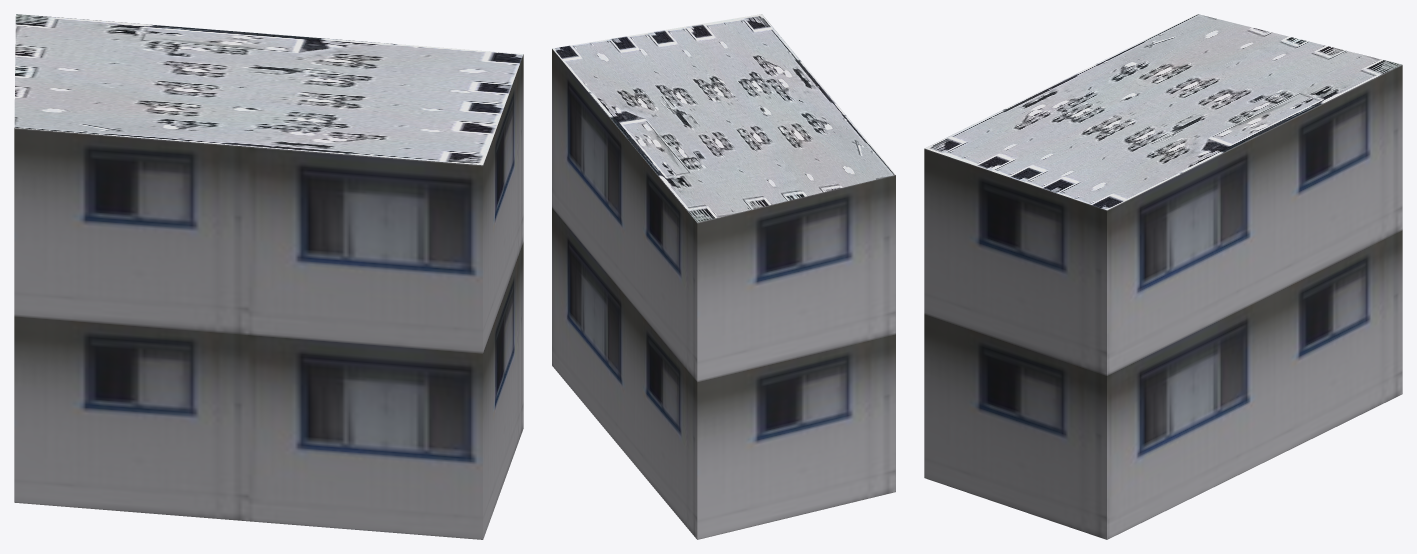
The model's file is ResTex__2757.fbx.
3 renders of one model, left to right at view 1: azimuth 30°, elevation 25°; view 2: azimuth 150°, elevation 25°; view 3: azimuth 270°, elevation 25°, orthographic. The views are drawn at different scales.
Visible parts, largest first — view 1: CityEngineMaterial_9_m, CityEngineMaterial_8_m; view 2: CityEngineMaterial_9_m, CityEngineMaterial_8_m; view 3: CityEngineMaterial_9_m, CityEngineMaterial_8_m.
Part boxes in pixels (x1,y1,x2,y2): CityEngineMaterial_9_m: [14, 54, 523, 539]; CityEngineMaterial_8_m: [14, 14, 523, 165]; CityEngineMaterial_9_m: [552, 49, 895, 539]; CityEngineMaterial_8_m: [552, 14, 895, 222]; CityEngineMaterial_9_m: [924, 65, 1402, 539]; CityEngineMaterial_8_m: [924, 14, 1401, 210].
Size of the model in its own units: 7.67 by 6 by 7.89.
2 materials, 2 textured.
